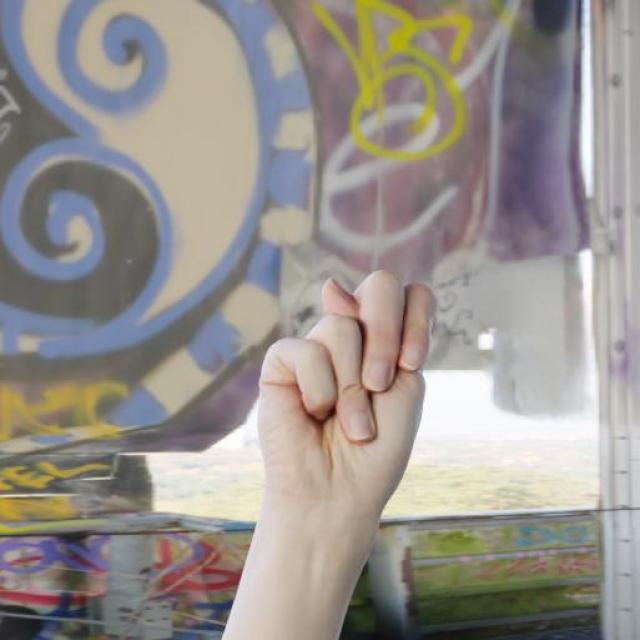N: (249, 264, 442, 520)
